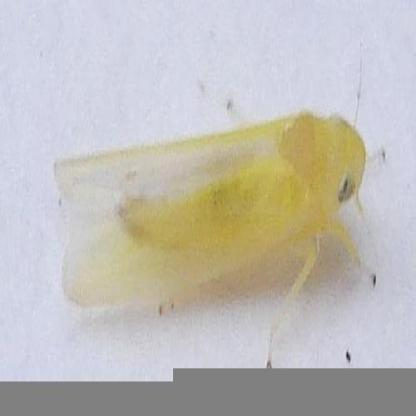green-leafhopper: (47, 121, 370, 301)
